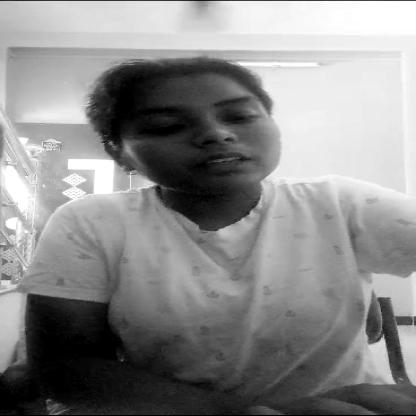Distracted: (82, 58, 303, 203)
